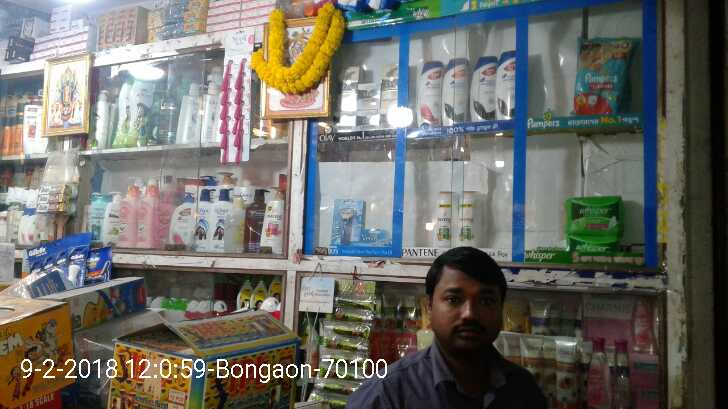venus: (217, 27, 253, 166), (333, 200, 360, 243), (360, 229, 387, 243)
